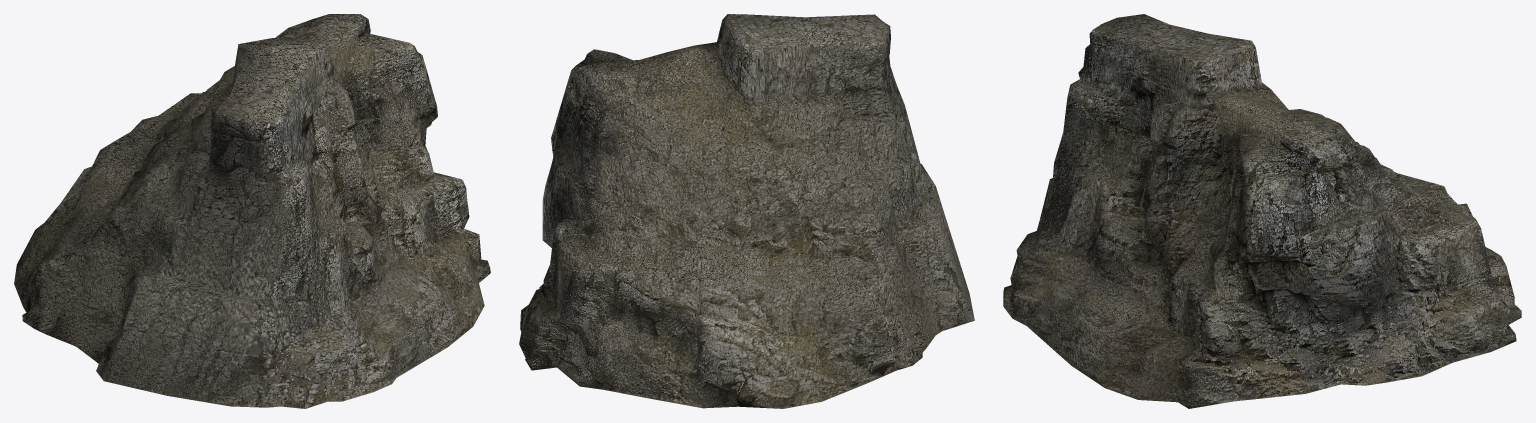
File: rock2.glb
The picture shows the model from 3 angles, left to right: view 1: azimuth 30°, elevation 25°; view 2: azimuth 150°, elevation 25°; view 3: azimuth 270°, elevation 25°; orthographic projection. The views are drawn at different scales.
Visible parts, largest first — view 1: tripo_node_67704ee5-2dbe-4377-a224-2df20877cdbf; view 2: tripo_node_67704ee5-2dbe-4377-a224-2df20877cdbf; view 3: tripo_node_67704ee5-2dbe-4377-a224-2df20877cdbf.
Part boxes in pixels (x1,y1,x2,y2): tripo_node_67704ee5-2dbe-4377-a224-2df20877cdbf: (14, 14, 490, 408); tripo_node_67704ee5-2dbe-4377-a224-2df20877cdbf: (519, 14, 974, 408); tripo_node_67704ee5-2dbe-4377-a224-2df20877cdbf: (1003, 14, 1521, 408).
Bounding box in the file's own units: 0.9121 × 0.584 × 0.998.
Materials: 1 (1 with a texture image).
